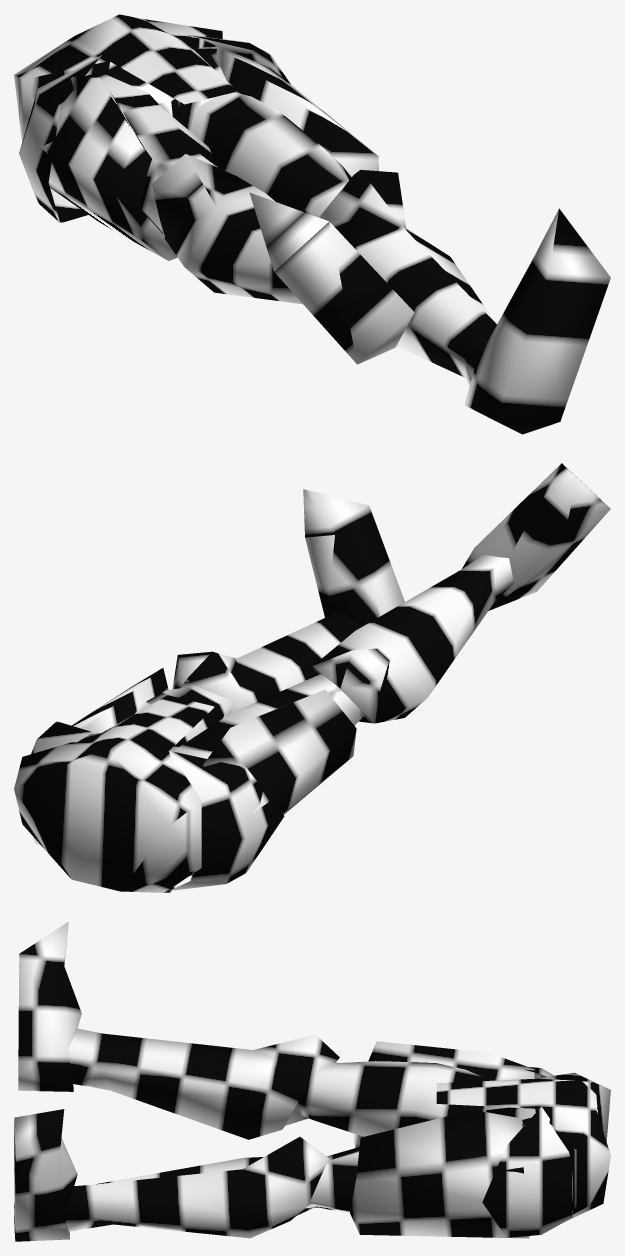
Rendered from initarlg2.dae.
The picture shows the model from 3 angles, top to bottom: view 1: azimuth 30°, elevation 25°; view 2: azimuth 150°, elevation 25°; view 3: azimuth 270°, elevation 25°; orthographic projection. The views are drawn at different scales.
Visible parts, largest first — view 1: armor; view 2: armor; view 3: armor.
Boxes of the visible parts, box(x1,y1,x2,y2) form: armor: box(14, 14, 610, 434); armor: box(14, 463, 610, 892); armor: box(14, 921, 610, 1241).
Bounding box in the file's own units: 0.8249 × 1.62 × 0.6694.
1 material, 1 textured.
